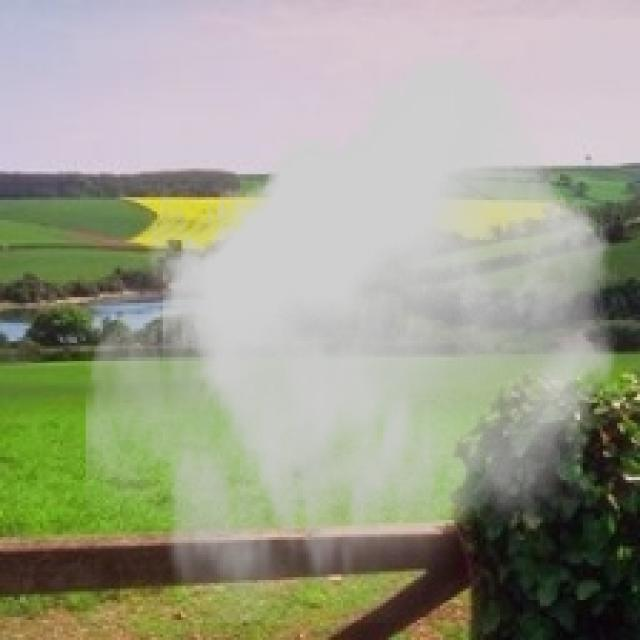smoke: (86, 54, 617, 623)
